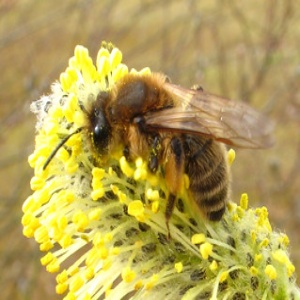bee: (42, 62, 287, 240)
